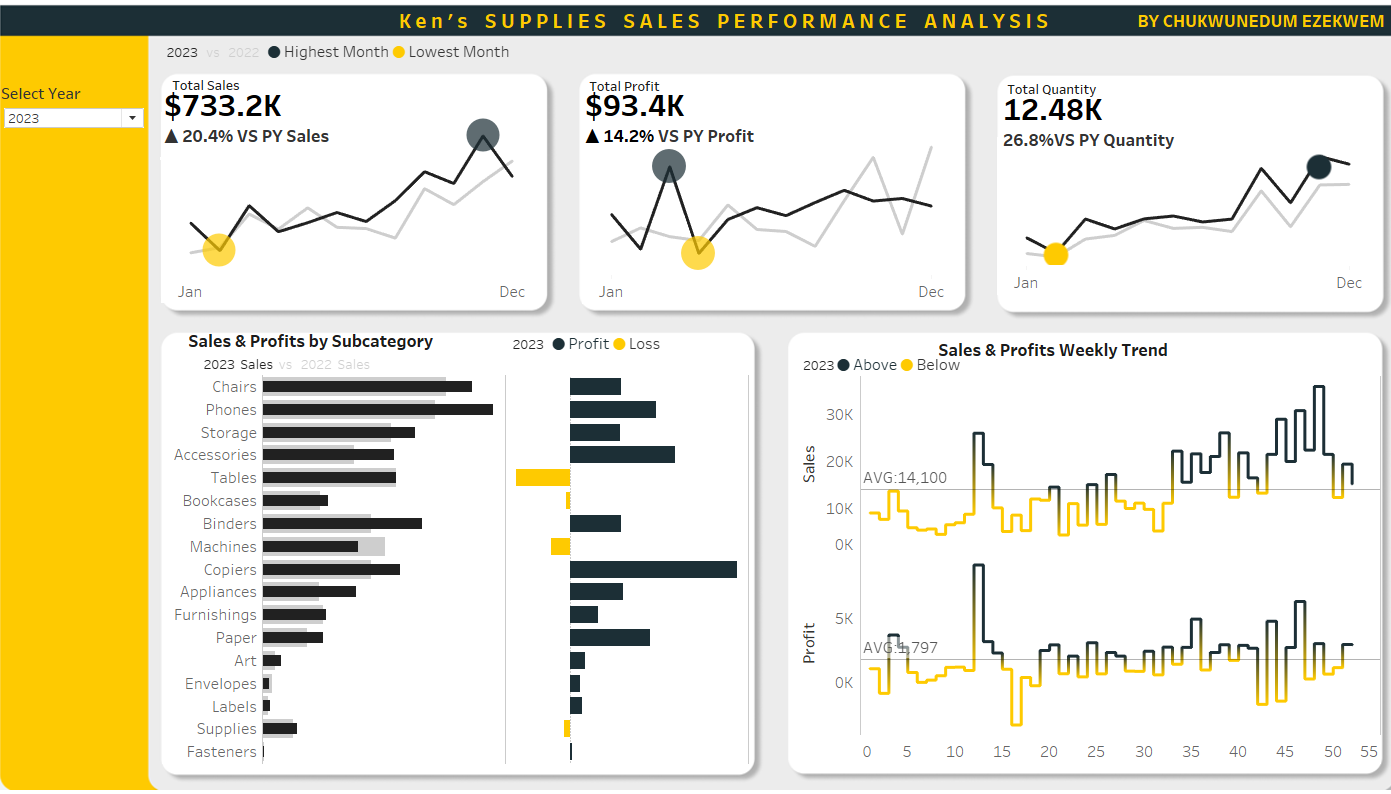

Layout of this report page (visuals, bound fields, positions):
{"tool":"tableau","page":{"name":"Dashboard 1","canvas":[1466,810],"ordinal":0},"visuals":[{"type":"image","param":"Image/DASHBOARD bg.png","box":[8,8,1450,794]},{"type":"text","box":[1169,13,261,30]},{"type":"worksheet","title":"KPI Legend","mark":"Automatic","box":[192,48,507,50]},{"type":"text","box":[203.8,76.4,115.8,34.2]},{"type":"text","box":[621,77,116,34]},{"type":"text","box":[1039,80,127,34]},{"type":"worksheet","title":"Sales KPI","mark":"Automatic","rows":["Calculation_551972447679508495"],"cols":["Order Date"],"box":[194.5,86.7,258.2,81]},{"type":"worksheet","title":"Profit KPI","mark":"Automatic","rows":["Min/Max Sales (copy)_551972447690428432"],"cols":["Order Date"],"box":[616,86.7,295.3,78.7]},{"type":"parameter","param":"[Parameters].[Parameter 1]","box":[36,91,146,51]},{"type":"worksheet","title":"Quantity KPI","mark":"Automatic","rows":["Min/Max Profit (copy)_1346576308289777667"],"cols":["Order Date"],"box":[1034.1,91.3,350.9,95.8]},{"type":"worksheet","title":"Sales KPI Viz","mark":"Automatic","rows":["Calculation_551972447679508495"],"cols":["Order Date"],"box":[195.7,119.8,379.8,191.7]},{"type":"worksheet","title":"Quantity KPI Viz","mark":"Automatic","rows":["Min/Max Profit (copy)_1346576308289777667"],"cols":["Order Date"],"box":[1032,145,381,158]},{"type":"worksheet","title":"Profit KPI Viz","mark":"Automatic","rows":["Min/Max Sales (copy)_551972447690428432"],"cols":["Order Date"],"box":[617,147,378,165]},{"type":"text","box":[220,330.8,316.1,34.2]},{"type":"worksheet","title":"Profit & Loss Legend","mark":"Automatic","box":[538.5,340,287.2,50.2]},{"type":"text","box":[970.4,340,274.4,34.2]},{"type":"worksheet","title":"Weekly Trend Legend","mark":"Automatic","box":[828,360.5,391.4,26.2]},{"type":"worksheet","title":"Subcategory Legend","mark":"Automatic","box":[229.3,361.6,350.9,24]},{"type":"worksheet","title":"Subcategory Comparison","mark":"Bar","rows":["Sub-Category"],"cols":["Calculation_551972445249077250","Calculation_551972445247115265","CY Sales (copy)_551972445264568326"],"box":[196.9,383.3,587.1,389]},{"type":"worksheet","title":"Weekly Trend","mark":"Automatic","rows":["Calculation_551972445247115265","CY Sales (copy)_551972445264568326"],"cols":["Order Date"],"box":[826,384,590,389]}]}

Visuals, with their boxes on the page's 1466x810 design canvas (x1, y1, x2, y2). These are canvas units, not pixel positions in the 1391x794 screenshot, which may show the page scaled, cropped or inside an application window:
image: rect(8, 8, 1458, 802)
text: rect(1169, 13, 1430, 43)
"KPI Legend" worksheet: rect(192, 48, 699, 98)
text: rect(204, 76, 320, 111)
text: rect(621, 77, 737, 111)
text: rect(1039, 80, 1166, 114)
"Sales KPI" worksheet: rect(194, 87, 453, 168)
"Profit KPI" worksheet: rect(616, 87, 911, 165)
parameter: rect(36, 91, 182, 142)
"Quantity KPI" worksheet: rect(1034, 91, 1385, 187)
"Sales KPI Viz" worksheet: rect(196, 120, 576, 312)
"Quantity KPI Viz" worksheet: rect(1032, 145, 1413, 303)
"Profit KPI Viz" worksheet: rect(617, 147, 995, 312)
text: rect(220, 331, 536, 365)
"Profit & Loss Legend" worksheet: rect(538, 340, 826, 390)
text: rect(970, 340, 1245, 374)
"Weekly Trend Legend" worksheet: rect(828, 360, 1219, 387)
"Subcategory Legend" worksheet: rect(229, 362, 580, 386)
"Subcategory Comparison" worksheet (Bar marks): rect(197, 383, 784, 772)
"Weekly Trend" worksheet: rect(826, 384, 1416, 773)
